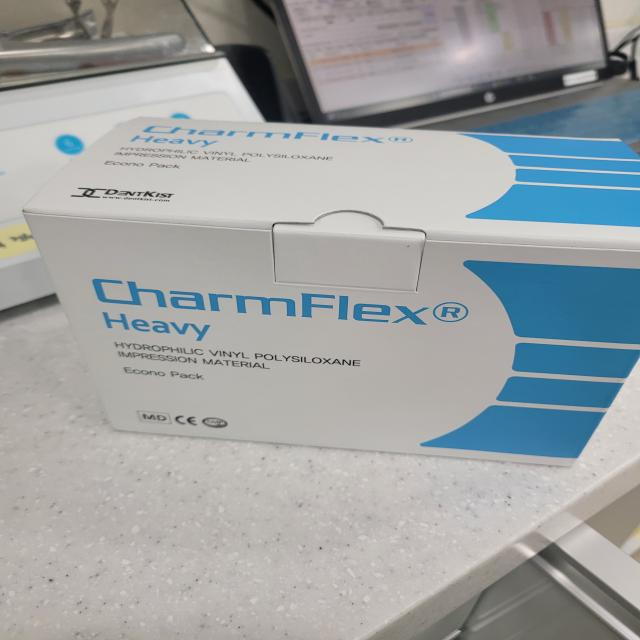impression: (14, 106, 640, 492)
